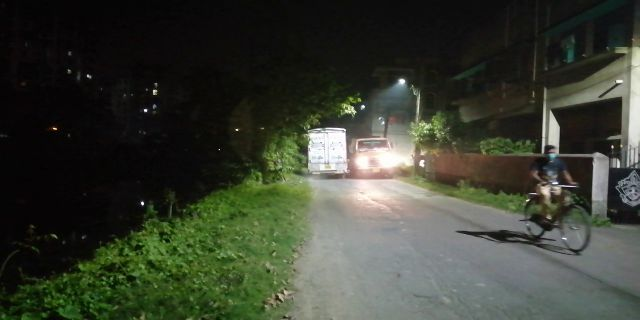Cycle: (516, 143, 602, 259)
Minitruck: (305, 123, 350, 184)
Truck: (357, 135, 398, 178)
